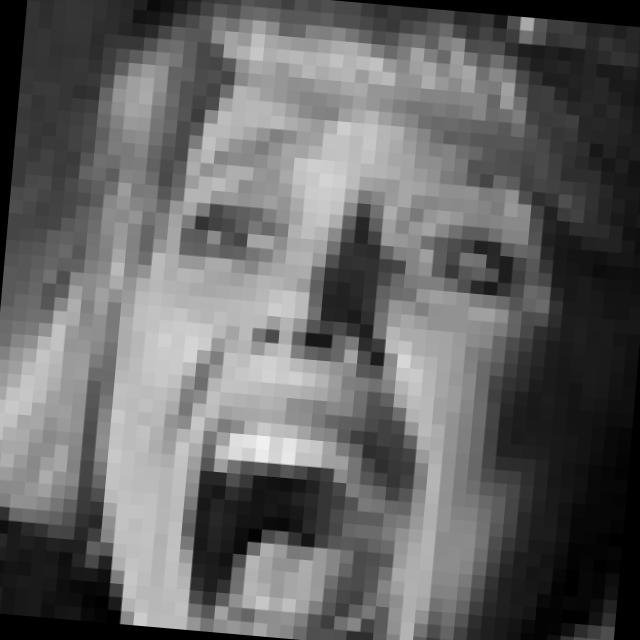fear: (131, 133, 534, 640)
